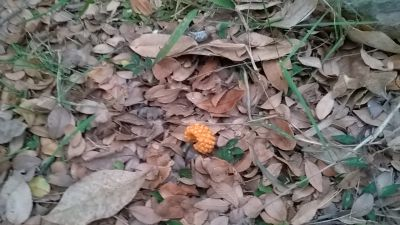eggs: (185, 122, 217, 156)
